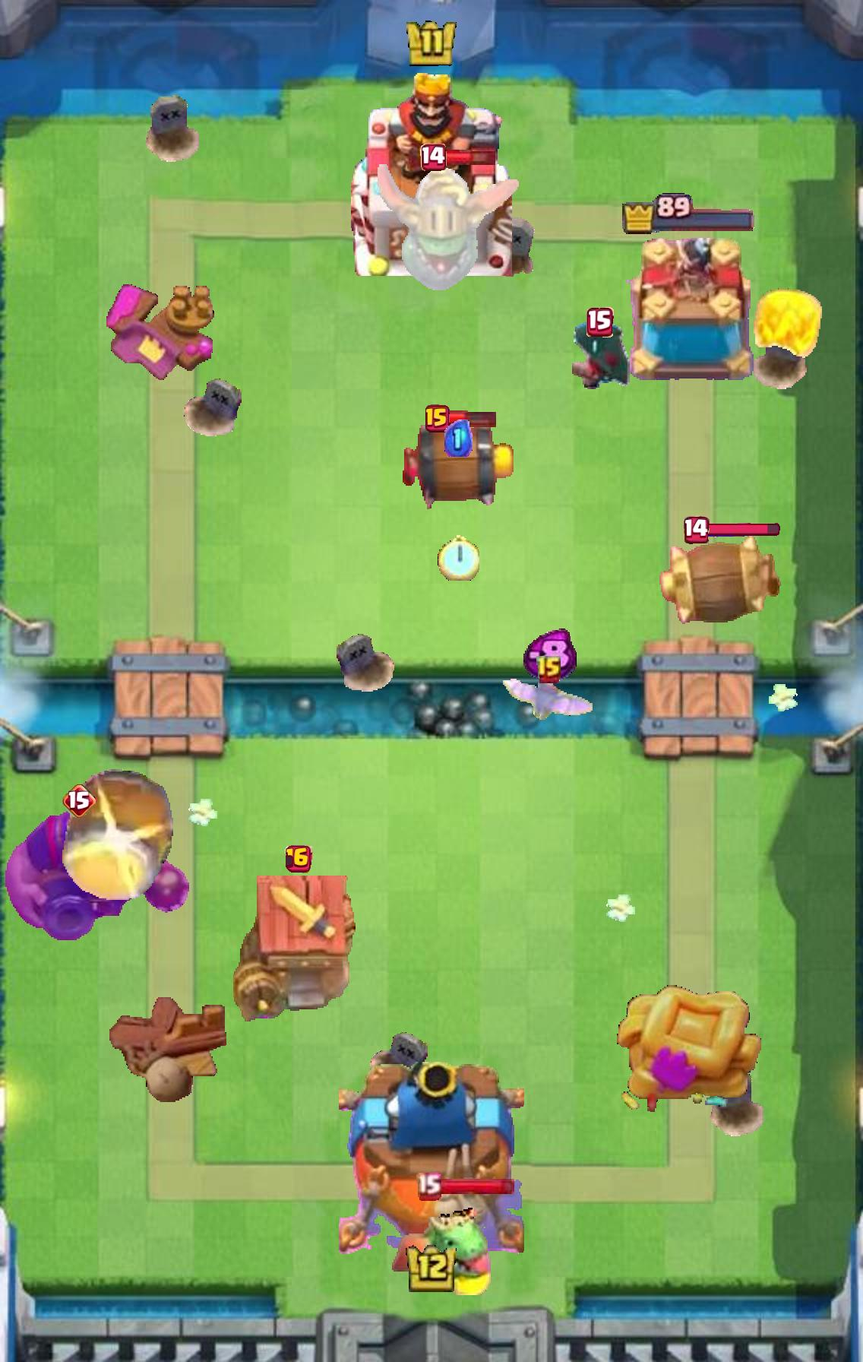bar: (438, 1177, 515, 1196), (706, 523, 780, 538), (443, 147, 496, 167), (446, 410, 496, 428)
bar-level: (62, 784, 96, 818), (586, 307, 614, 337), (536, 655, 563, 686), (285, 845, 313, 873), (684, 516, 710, 545), (416, 1172, 441, 1201), (420, 144, 446, 171), (425, 404, 450, 432)
